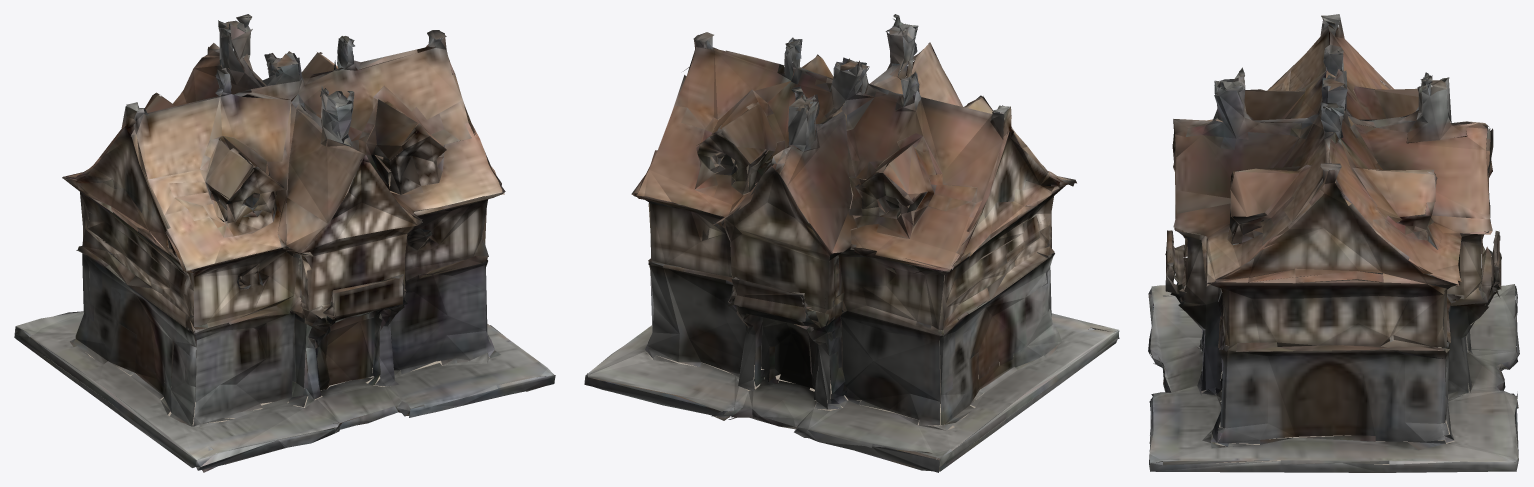
The model's file is house_tudor_stone_base_lod1.glb.
The picture shows the model from 3 angles, left to right: view 1: azimuth 30°, elevation 25°; view 2: azimuth 150°, elevation 25°; view 3: azimuth 270°, elevation 25°; orthographic projection.
Parts seen in each view (by area): view 1: house_tudor_stone_base_lod1; view 2: house_tudor_stone_base_lod1; view 3: house_tudor_stone_base_lod1.
Part boxes in pixels (x1=…): house_tudor_stone_base_lod1: x1=14, y1=14, x2=555, y2=472; house_tudor_stone_base_lod1: x1=584, y1=14, x2=1119, y2=472; house_tudor_stone_base_lod1: x1=1148, y1=14, x2=1519, y2=472.
Bounding box in the file's own units: 9.01 × 7.53 × 8.
Materials: 1 (1 with a texture image).
